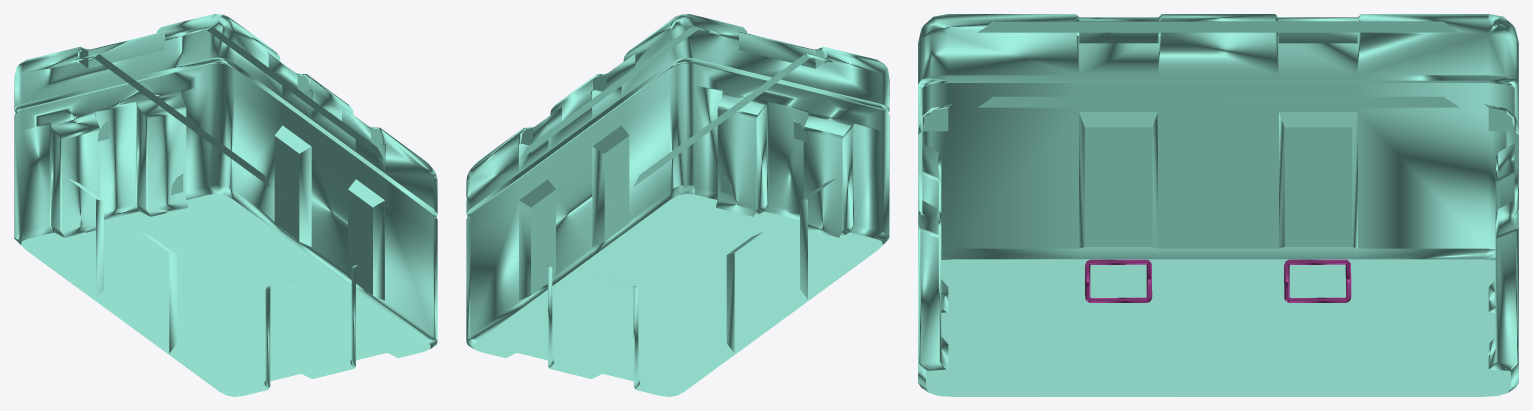
Rendered from crate_dry_8_a.glb.
3 views of the same model, side by side, from view 1: azimuth 30°, elevation 25°; view 2: azimuth 150°, elevation 25°; view 3: azimuth 270°, elevation 25° (orthographic). The views are drawn at different scales.
Bounding box in the file's own units: 0.4359 × 0.36 × 0.7487.
